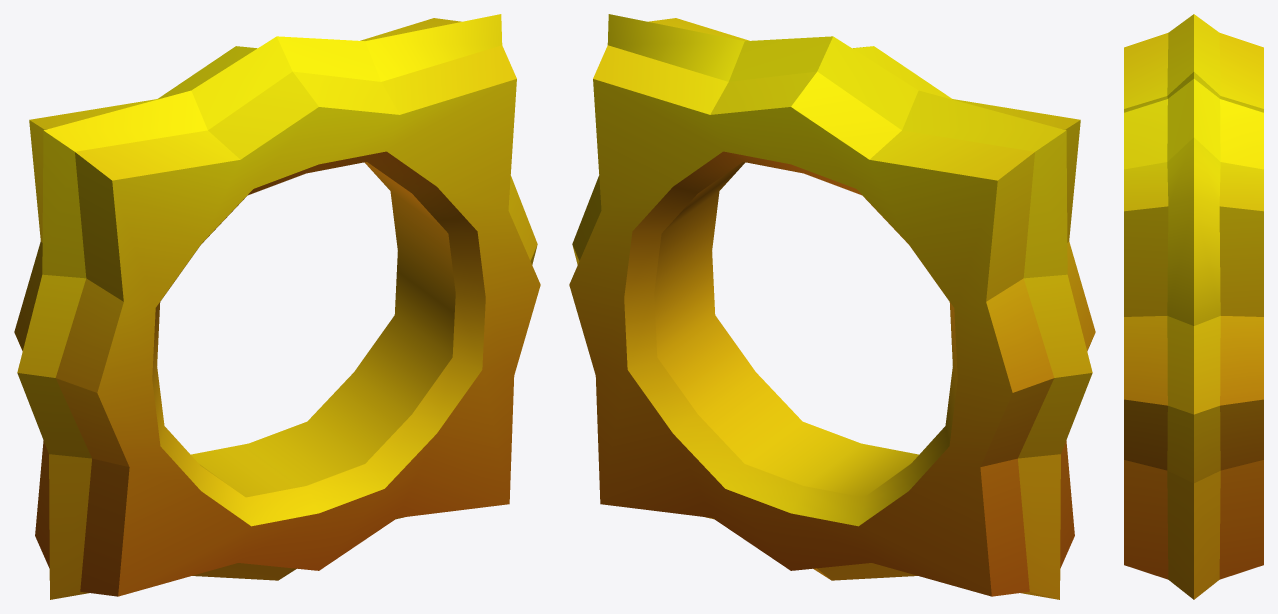
The model's file is Gold_Ring_04.glb.
3 renders of one model, left to right at view 1: azimuth 30°, elevation 25°; view 2: azimuth 150°, elevation 25°; view 3: azimuth 270°, elevation 25°, orthographic. The views are drawn at different scales.
Visible parts, largest first — view 1: Gold_Ring_04; view 2: Gold_Ring_04; view 3: Gold_Ring_04.
Part boxes in pixels (x1,y1,x2,y2): Gold_Ring_04: (14, 14, 540, 599); Gold_Ring_04: (569, 14, 1095, 599); Gold_Ring_04: (1124, 14, 1263, 599).
Bounding box in the file's own units: 0.5345 × 0.5345 × 0.1478.
1 material, 1 textured.
